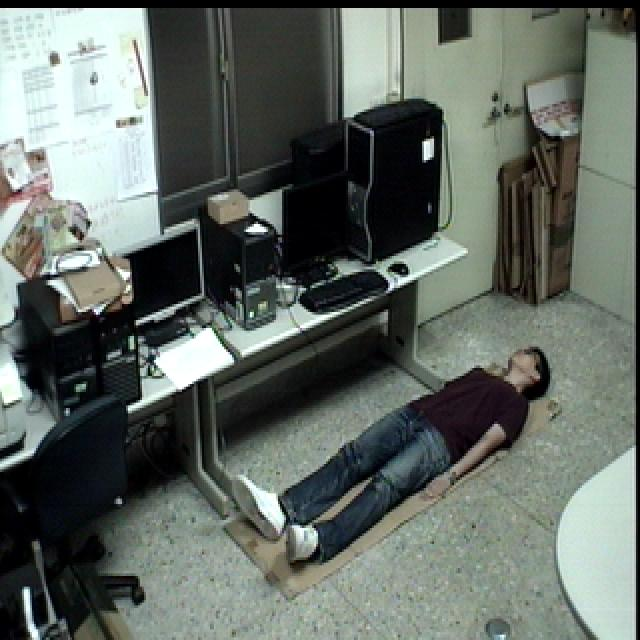lie: (227, 334, 556, 564)
